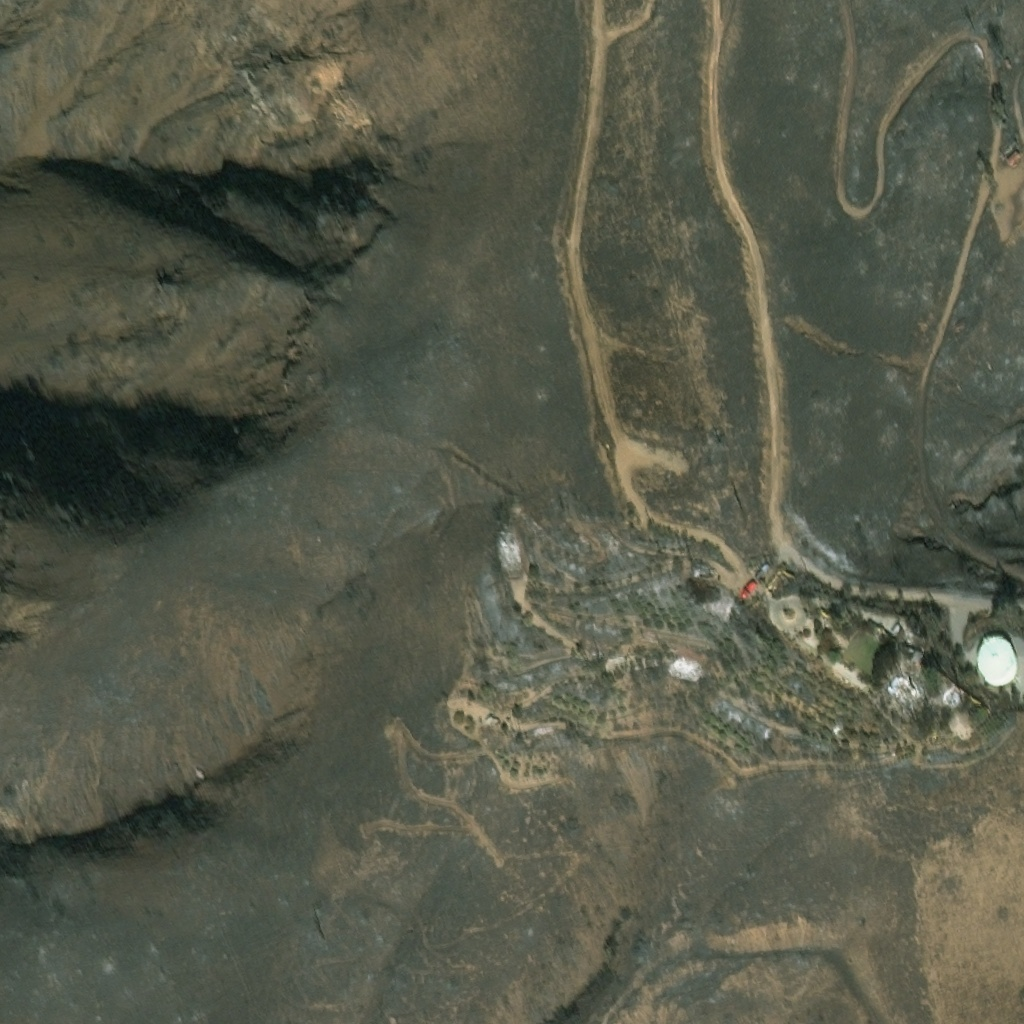0 no-damage: (976, 639, 1017, 684)
3 destroyed: (885, 670, 928, 712), (762, 564, 795, 597), (496, 533, 520, 574), (666, 649, 698, 676), (901, 637, 922, 668), (940, 685, 960, 706), (689, 556, 715, 572), (867, 622, 886, 640), (482, 711, 500, 728), (904, 619, 921, 634), (888, 623, 903, 638), (486, 662, 499, 675), (624, 648, 636, 662), (586, 642, 599, 653), (638, 624, 651, 633)
4 un-classified: (999, 139, 1018, 157), (1005, 151, 1021, 166)
